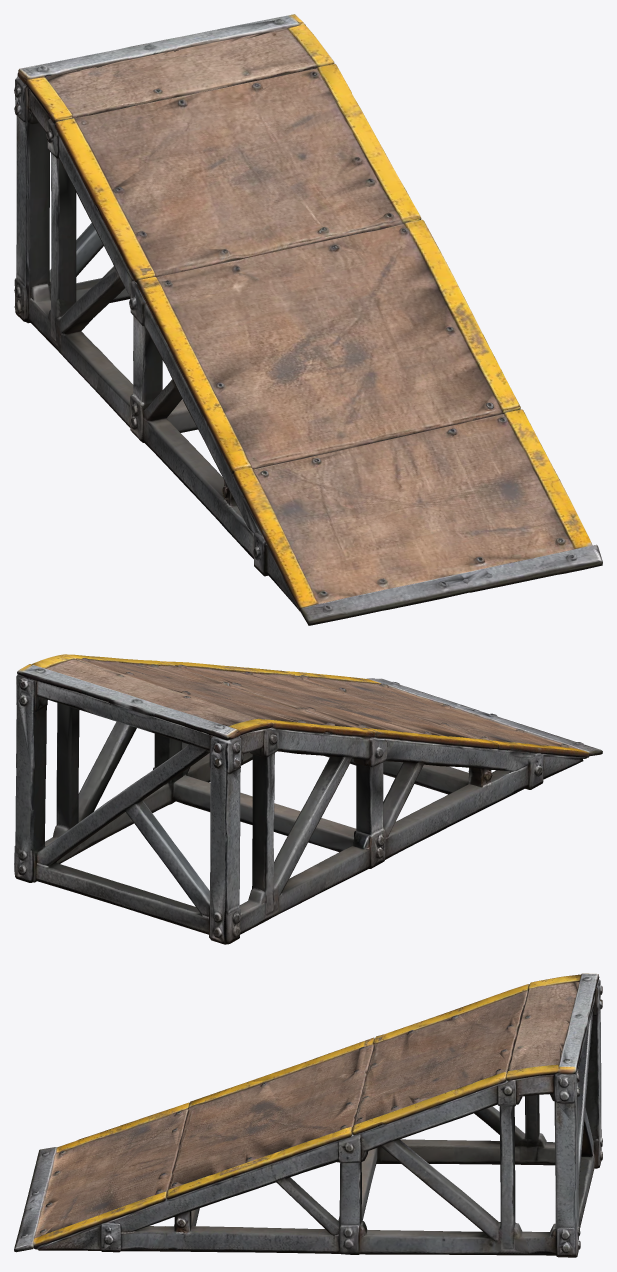
File: ramp.glb
3 views of the same model, one above another, from view 1: azimuth 30°, elevation 25°; view 2: azimuth 150°, elevation 25°; view 3: azimuth 270°, elevation 25° (orthographic). The views are drawn at different scales.
Visible parts, largest first — view 1: tripo_node_450d3bc7-ae2d-4c06-ba3d-2b9e35d6f823; view 2: tripo_node_450d3bc7-ae2d-4c06-ba3d-2b9e35d6f823; view 3: tripo_node_450d3bc7-ae2d-4c06-ba3d-2b9e35d6f823.
Part boxes in pixels (x1=…): tripo_node_450d3bc7-ae2d-4c06-ba3d-2b9e35d6f823: x1=14, y1=14, x2=602, y2=625; tripo_node_450d3bc7-ae2d-4c06-ba3d-2b9e35d6f823: x1=14, y1=654, x2=602, y2=944; tripo_node_450d3bc7-ae2d-4c06-ba3d-2b9e35d6f823: x1=14, y1=973, x2=602, y2=1257.
Bounding box in the file's own units: 0.5067 × 0.3862 × 0.979.
1 material, 1 textured.
